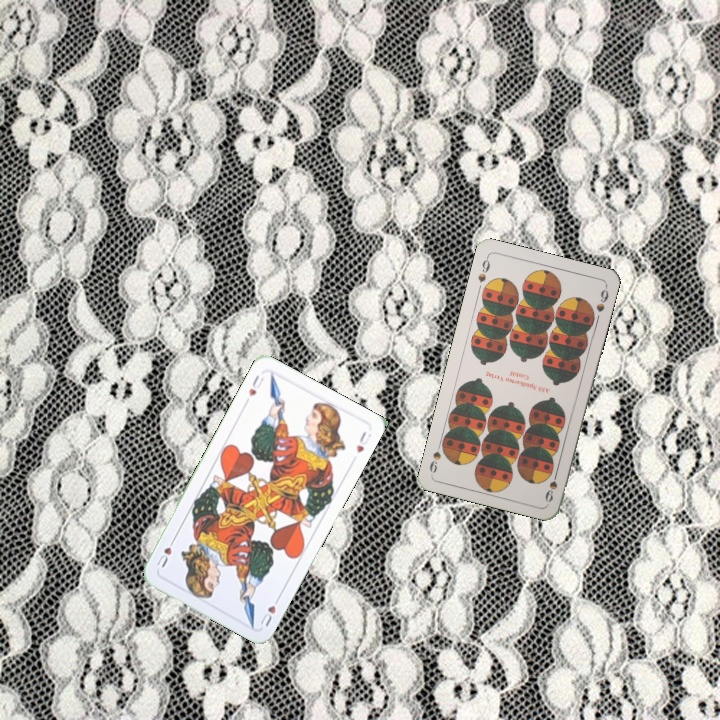HU: (256, 592, 283, 629), (244, 371, 267, 399)
S9: (541, 465, 561, 505), (474, 253, 493, 285)
